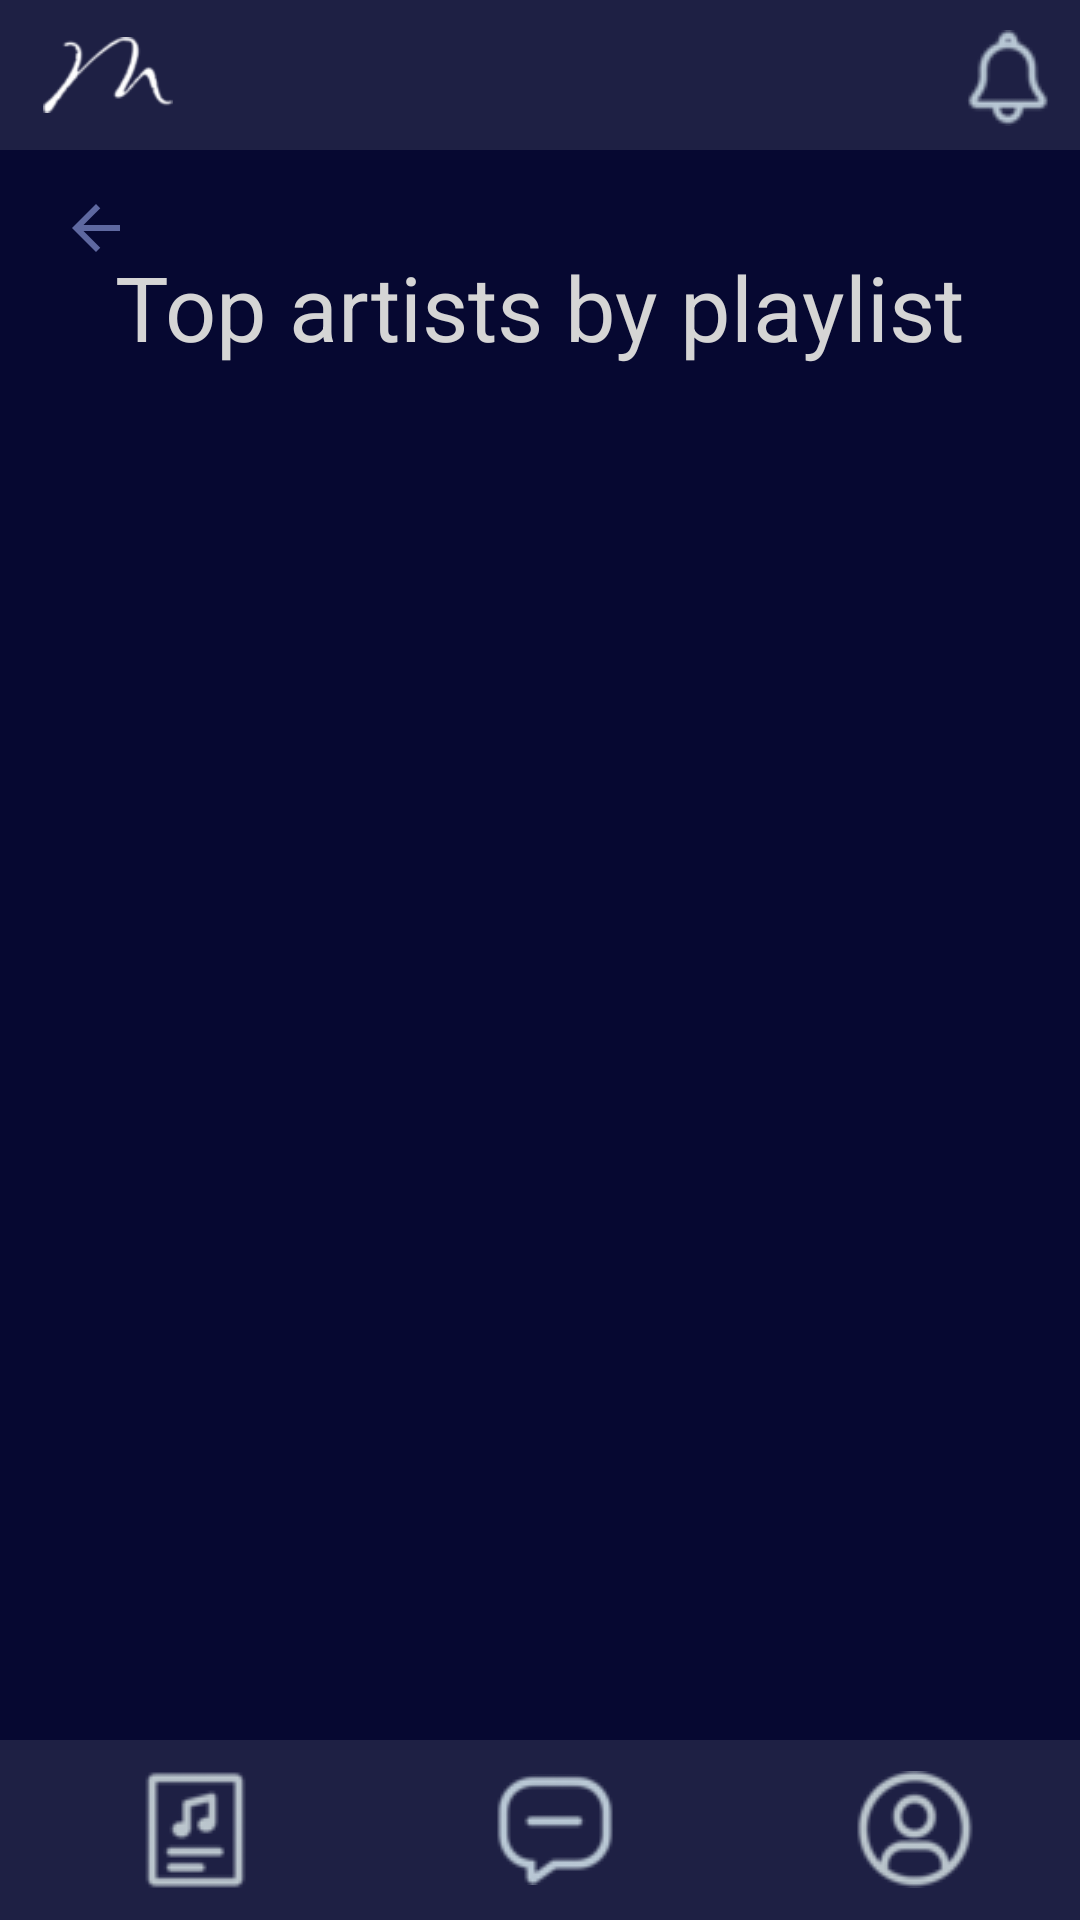

Where icons sit on this 1080w x 1920h app screen, as (x1, y1, x2, y2):
Back: (72, 204, 120, 252)
bell: (968, 30, 1048, 124)
feed: (146, 1772, 245, 1888)
profile: (857, 1771, 972, 1888)
